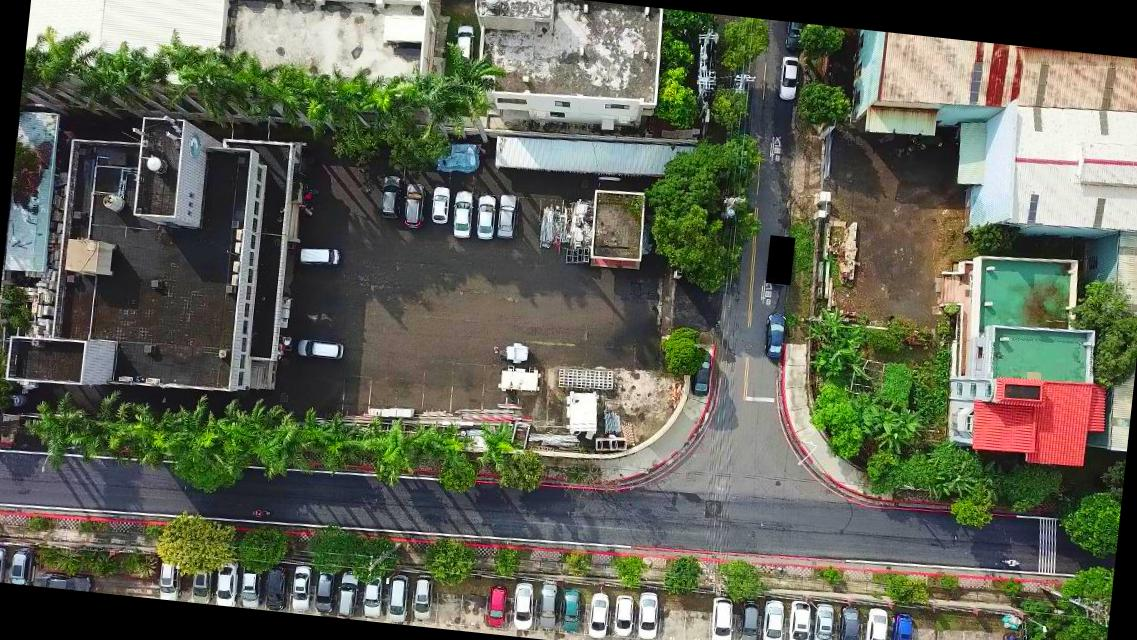vehicle: (400, 180, 430, 230), (334, 568, 362, 618), (762, 311, 790, 360), (296, 335, 346, 362), (190, 556, 218, 604), (494, 191, 522, 239), (214, 559, 242, 606), (708, 593, 736, 639), (262, 564, 290, 609), (38, 569, 95, 591), (635, 589, 660, 639), (510, 581, 536, 629), (689, 346, 714, 395), (759, 597, 788, 639), (411, 574, 436, 622), (312, 566, 337, 614), (473, 192, 498, 240), (386, 572, 409, 624), (777, 54, 801, 102), (288, 564, 312, 612), (537, 580, 560, 630), (451, 188, 474, 238), (377, 172, 403, 216), (8, 542, 35, 584), (158, 555, 183, 600), (588, 591, 611, 639), (451, 22, 475, 68), (786, 600, 813, 639), (738, 598, 763, 639), (361, 573, 384, 617), (240, 562, 262, 608), (612, 594, 636, 636), (561, 589, 585, 631), (487, 584, 510, 627), (299, 242, 340, 266), (810, 602, 836, 639), (863, 605, 891, 639), (430, 183, 453, 224), (837, 604, 862, 639), (889, 609, 916, 639), (782, 22, 806, 53), (0, 541, 9, 582)
